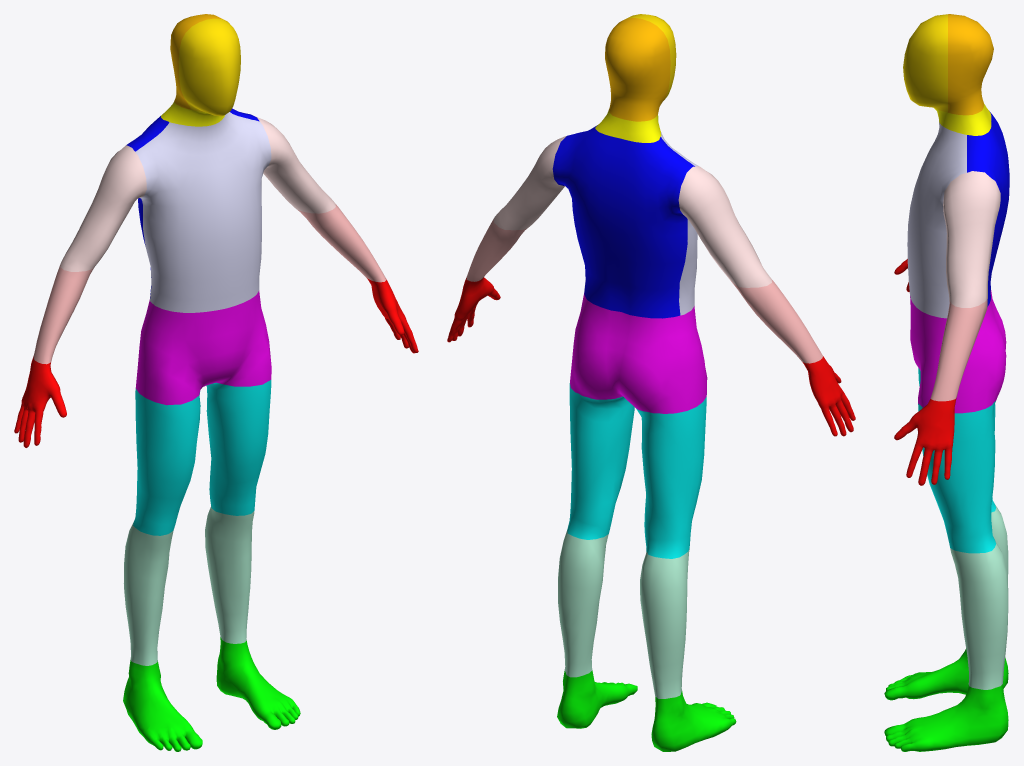
The model's file is human body.glb.
3 renders of one model, left to right at view 1: azimuth 30°, elevation 25°; view 2: azimuth 150°, elevation 25°; view 3: azimuth 270°, elevation 25°, orthographic.
Visible parts, largest first — view 1: Basemesh (×18); view 2: Basemesh (×18); view 3: Basemesh (×14).
Part boxes in pixels (x1=…): Basemesh (×18): x1=14, y1=14, x2=418, y2=751; Basemesh (×18): x1=447, y1=14, x2=855, y2=751; Basemesh (×14): x1=884, y1=14, x2=1009, y2=751.
Bounding box in the file's own units: 102 × 174 × 28.11.
